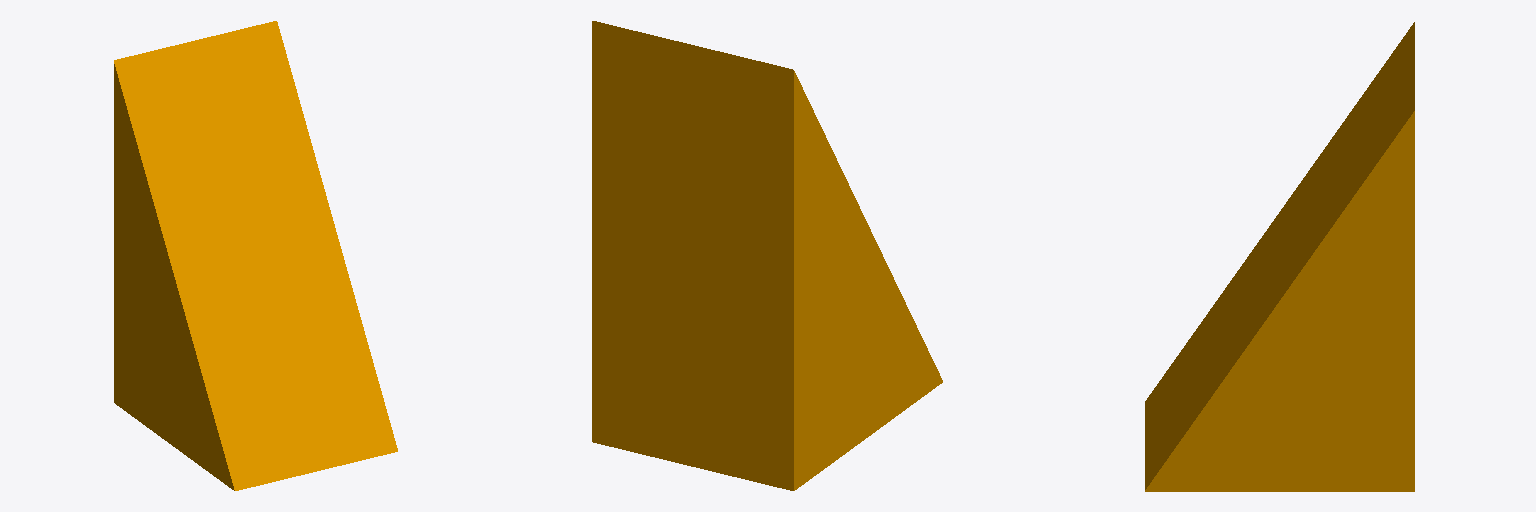
URDF robot description (sandwich):
<?xml version="1.0"?>
<robot name="sandwich">
  <link name="sandwich">
    <inertial>
      <origin xyz="0 0 0"/>
      <mass value="5"/>
      <inertia ixx="1" ixy="0" ixz="0" iyy="1" iyz="0" izz="1"/>
    </inertial>
    <collision>
      <origin xyz="0 0 0"/>
      <geometry>
        <mesh filename="package://fcsc_description/mesh/sandwich.stl" scale="1 1 1"/>
      </geometry>
    </collision>
    <visual>
      <origin xyz="0 0 0"/>
      <geometry>
        <mesh filename="package://fcsc_description/mesh/sandwich.stl" scale="1 1 1"/>
      </geometry>
    </visual>
  </link>
</robot>

--- What the picture shows (computed from the rendered views, not written in the file) ---
3 views of the same robot in one strip: view 1: azimuth 30°, elevation 25°; view 2: azimuth 150°, elevation 25°; view 3: azimuth 270°, elevation 25° (orthographic).
Robot: sandwich — 1 links, 0 joints (none); root link sandwich; default pose: all joints at 0.
Links seen in each view (by area): view 1: sandwich; view 2: sandwich; view 3: sandwich.
Link boxes in pixels (left/top/right/bottom): sandwich: left=114, top=21, right=397, bottom=490; sandwich: left=592, top=21, right=942, bottom=490; sandwich: left=1145, top=22, right=1414, bottom=491.
Bounding box of the posed robot: 0.07 × 0.09 × 0.14 m (x, y, z).
Meshes: 1 distinct files referenced, 1 mesh visuals loaded (1 binary STL).